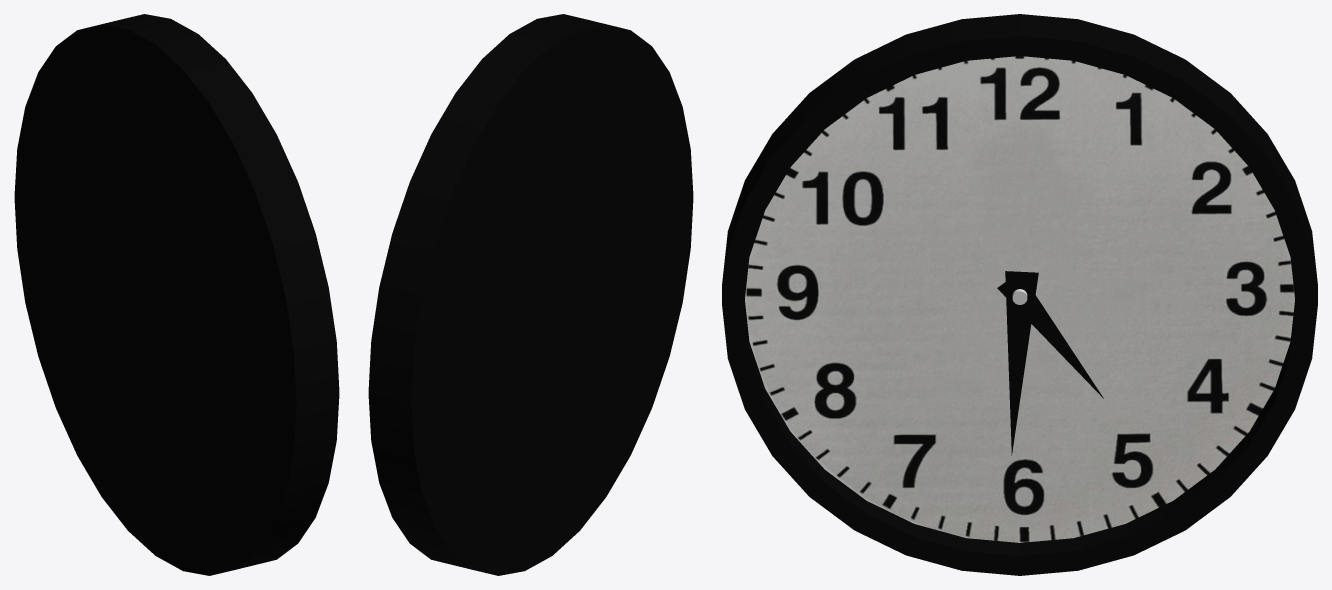
The model's file is clock0111.fbx.
The picture shows the model from 3 angles, left to right: view 1: azimuth 30°, elevation 25°; view 2: azimuth 150°, elevation 25°; view 3: azimuth 270°, elevation 25°; orthographic projection. The views are drawn at different scales.
Visible parts, largest first — view 1: Cylinder; view 2: Cylinder; view 3: Cylinder, minhand, hourhand.
Part boxes in pixels (x1,y1,x2,y2): Cylinder: [14, 14, 339, 575]; Cylinder: [368, 14, 693, 575]; Cylinder: [722, 14, 1317, 575]; minhand: [1005, 271, 1038, 455]; hourhand: [997, 272, 1103, 398].
Bounding box in the file's own units: 5.9 × 67.33 × 67.33.
